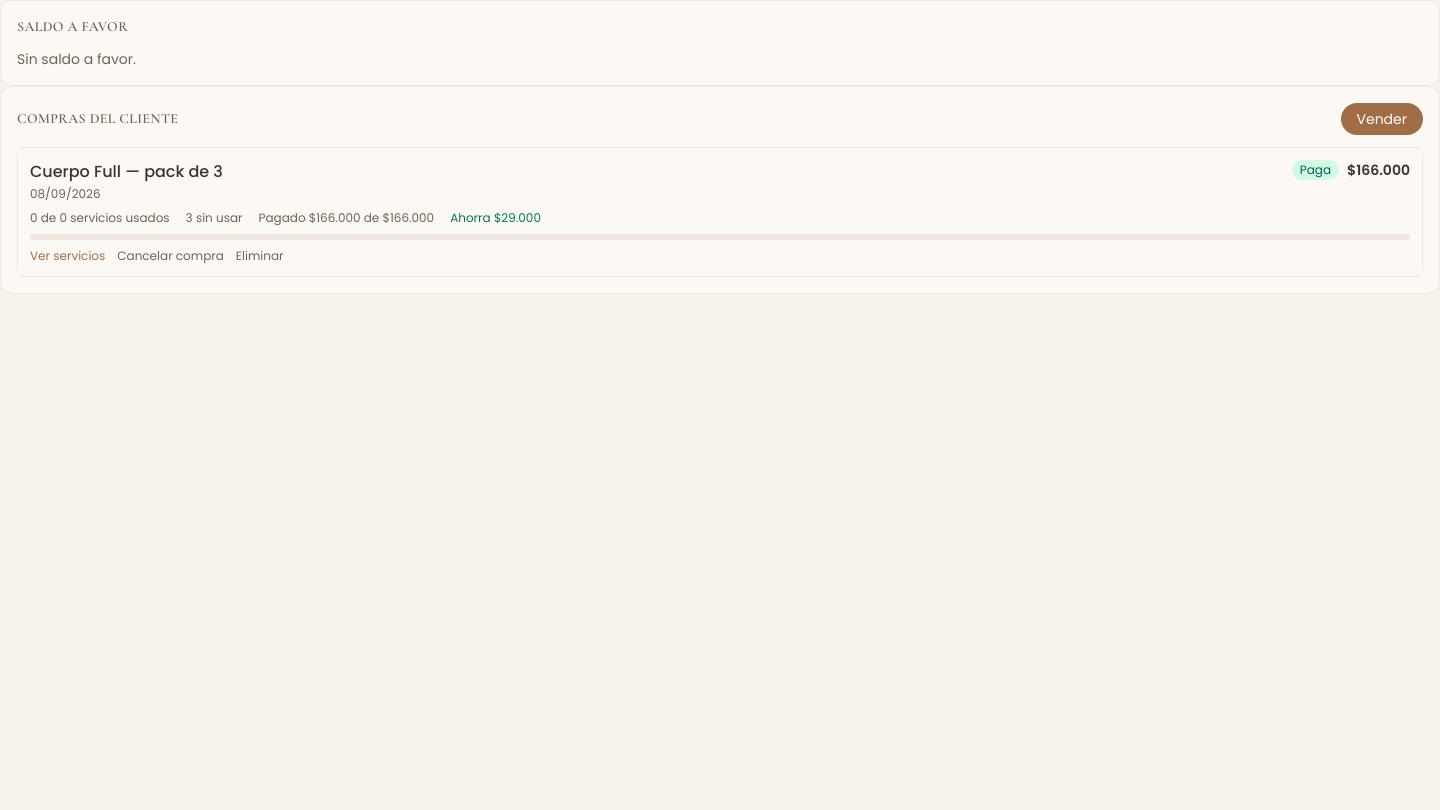
Scenario: cancelar una compra refresca el saldo sin recargar › la card de saldo se entera sola
Expected: the text "Sin saldo a favor." is shown, top-left (17, 49), bottom-right (136, 69)
Click the button "Cancelar compra".
click(171, 256)  # box top-left (117, 248), bottom-right (224, 264)
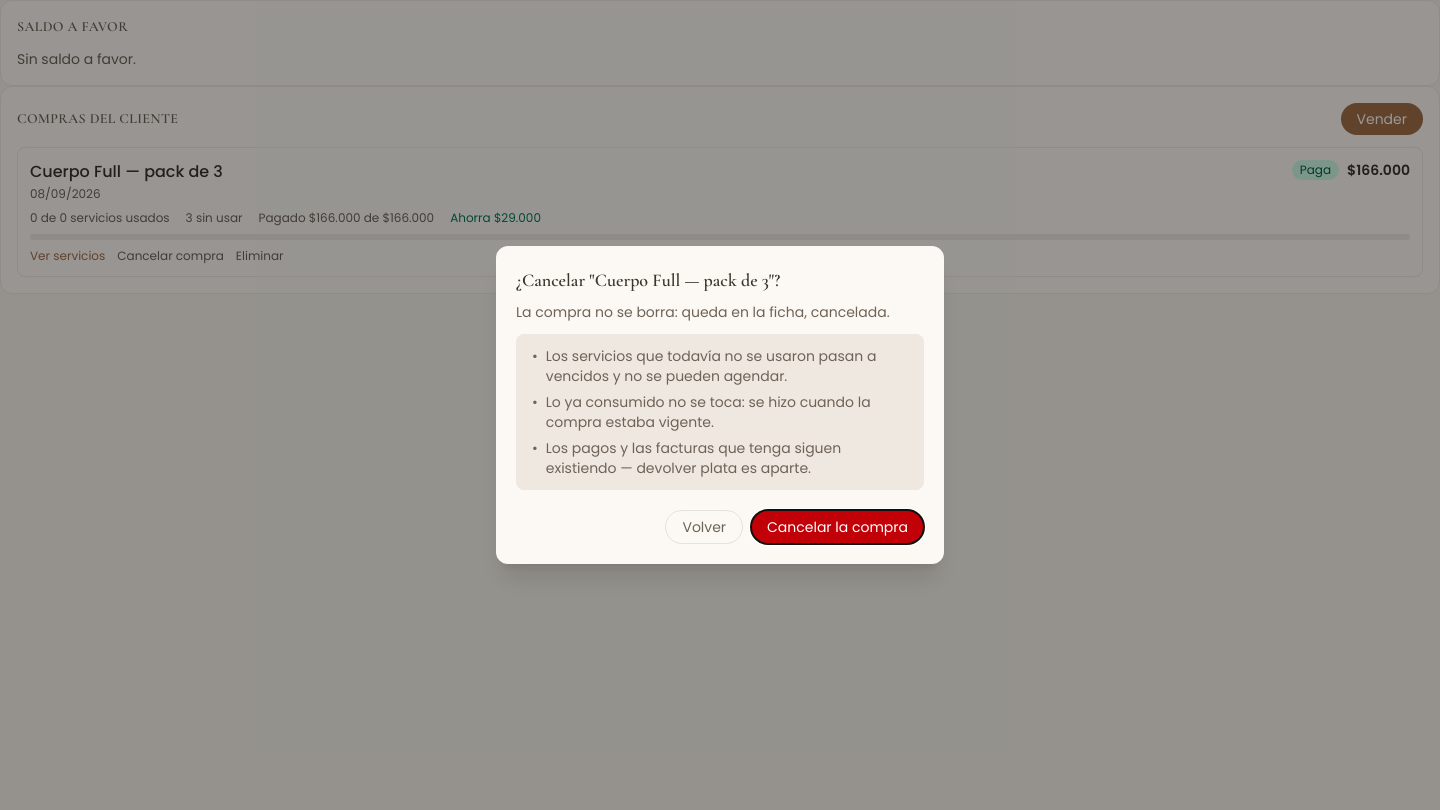
Click the button "Cancelar la compra".
click(838, 527)  # box top-left (751, 510), bottom-right (924, 544)
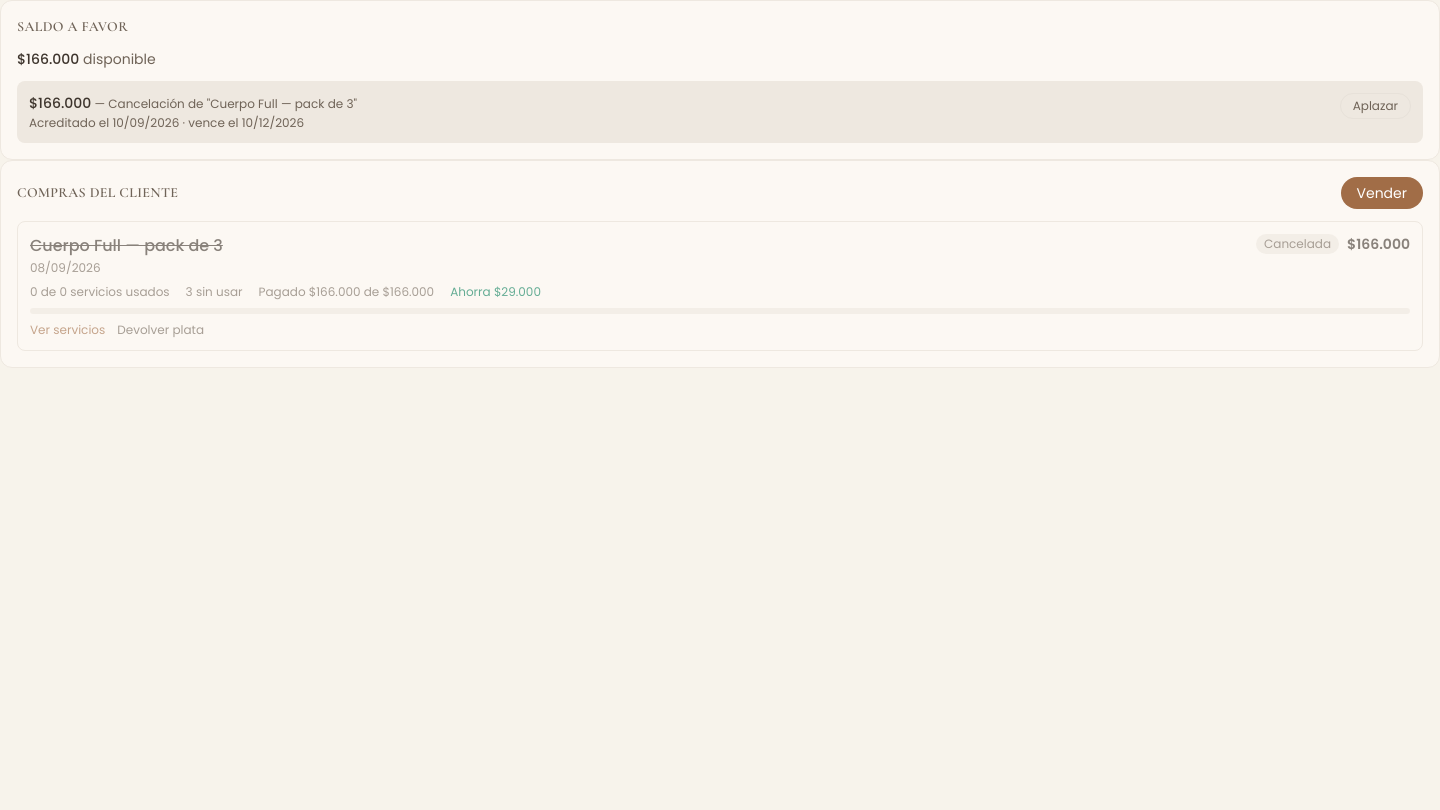
Result: the text "$166.000 — Cancelación de \"Cuerpo Full — pack de 3\"" is shown at top-left (29, 93), bottom-right (357, 113)
